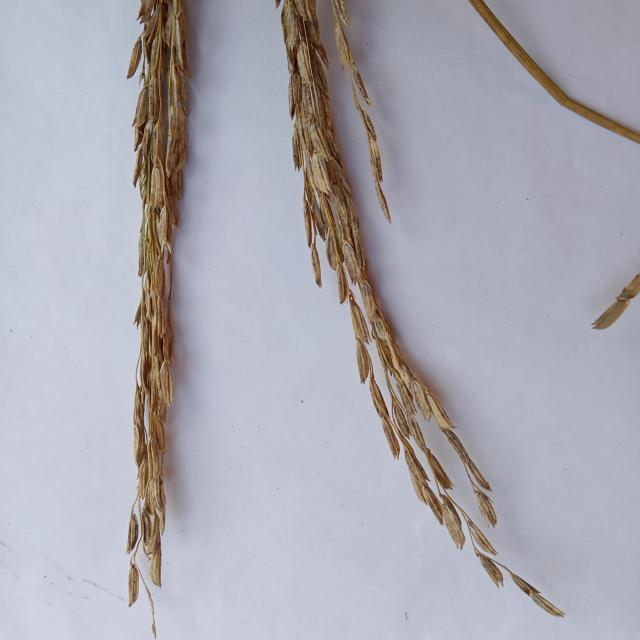Neck_Blast: (282, 0, 445, 463), (126, 1, 185, 549)
